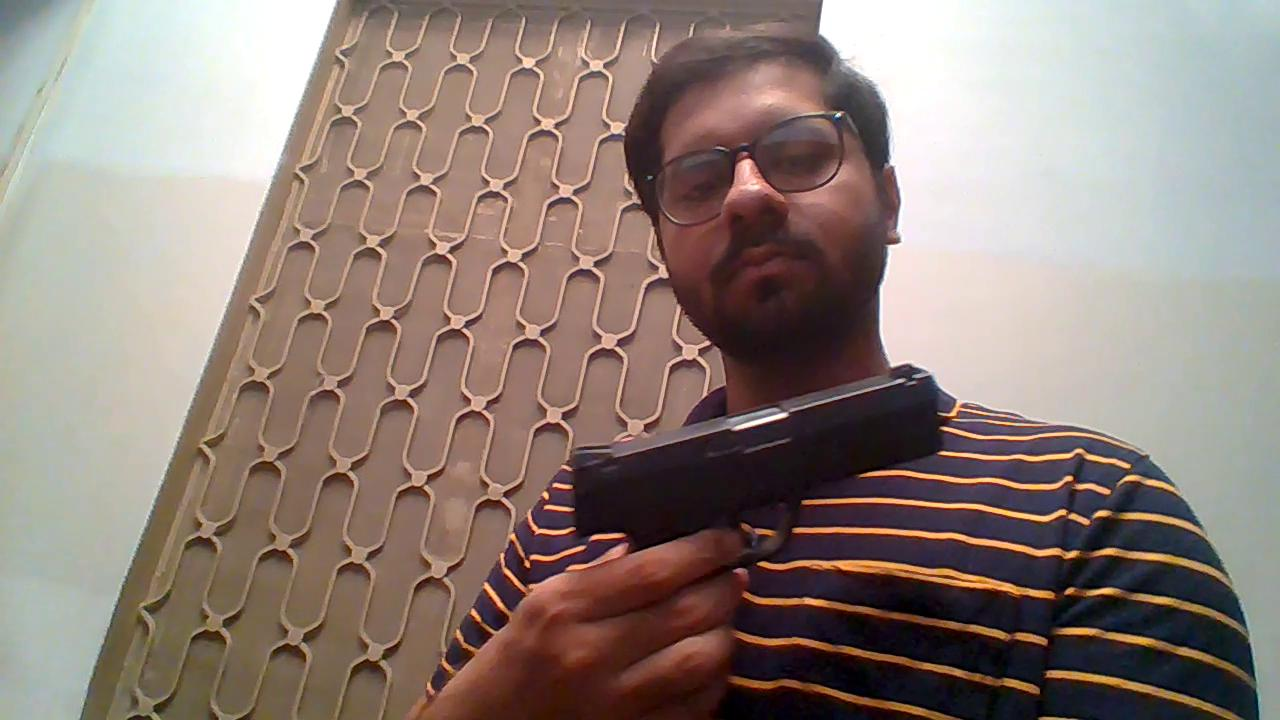criminal: (403, 23, 1258, 720)
weapon: (565, 361, 944, 574)
